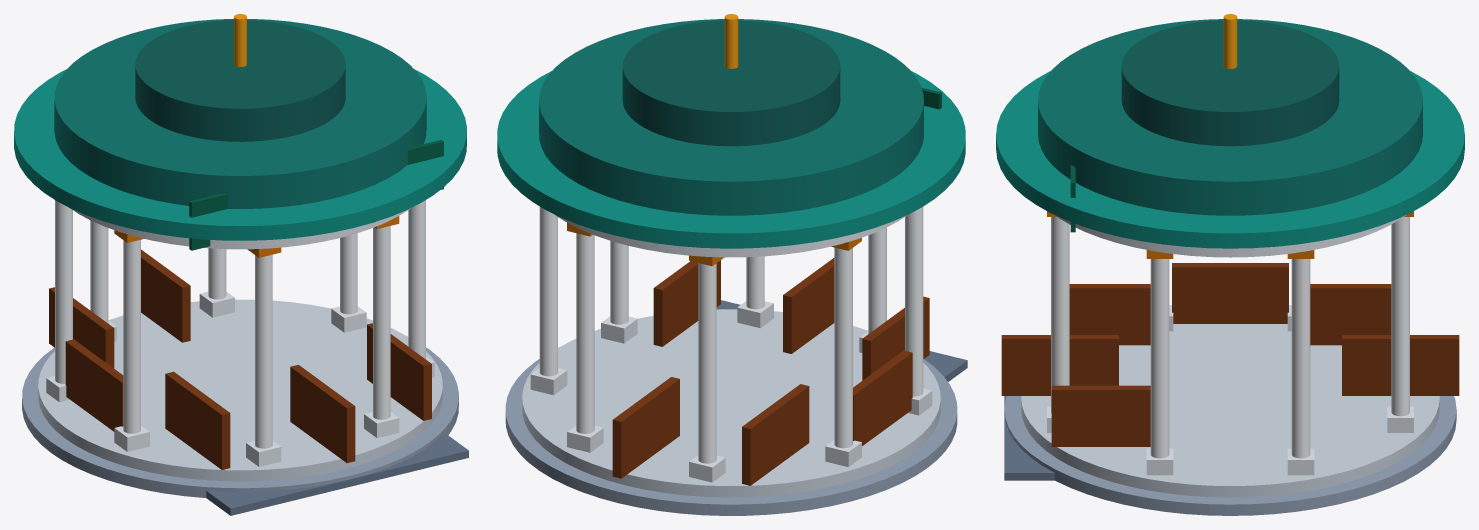
Rendered from booth_06.glb.
The picture shows the model from 3 angles, left to right: view 1: azimuth 30°, elevation 25°; view 2: azimuth 150°, elevation 25°; view 3: azimuth 270°, elevation 25°; orthographic projection. The views are drawn at different scales.
Parts seen in each view (by area): view 1: oct_roof_cone, oct_base_upper, oct_roof_apex, oct_roof_eaves, oct_base_lower, oct_bal_4, oct_bal_5, oct_front_step, oct_bal_3, oct_col_4, oct_col_5, oct_col_6 (+16 smaller); view 2: oct_roof_cone, oct_base_upper, oct_roof_apex, oct_roof_eaves, oct_base_lower, oct_bal_2, oct_bal_1, oct_bal_3, oct_col_2, oct_col_3, oct_col_1, oct_bal_5 (+16 smaller); view 3: oct_roof_cone, oct_base_upper, oct_roof_apex, oct_roof_eaves, oct_base_lower, oct_bal_3, oct_bal_6, oct_bal_1, oct_bal_5, oct_bal_2, oct_bal_4, oct_col_0 (+9 smaller).
Boxes of the visible parts, x1,y1,x2,y2 form: oct_roof_cone: (54,18,426,208); oct_base_upper: (38,299,442,481); oct_roof_apex: (135,20,345,141); oct_roof_eaves: (14,69,466,240); oct_base_lower: (22,336,458,497); oct_bal_4: (165,371,230,469); oct_bal_5: (290,365,355,462); oct_front_step: (206,433,468,515); oct_bal_3: (65,339,123,431); oct_col_4: (123,240,140,433); oct_col_5: (255,254,272,448); oct_col_6: (373,226,390,419); oct_roof_cone: (539,19,923,215); oct_base_upper: (522,309,940,497); oct_roof_apex: (622,20,840,146); oct_roof_eaves: (497,71,965,248); oct_base_lower: (505,347,957,515); oct_bal_2: (742,384,809,485); oct_bal_1: (612,377,679,478); oct_bal_3: (853,350,912,445); oct_col_2: (698,263,716,463); oct_col_3: (834,247,852,448); oct_col_1: (576,233,594,433); oct_bal_5: (783,258,834,353); oct_roof_cone: (1038,19,1422,215); oct_base_upper: (1021,324,1439,497); oct_roof_apex: (1121,20,1339,146); oct_roof_eaves: (996,71,1464,248); oct_base_lower: (1004,396,1456,515); oct_bal_3: (1172,263,1288,323); oct_bal_6: (1051,385,1150,446); oct_bal_1: (1342,335,1459,395); oct_bal_5: (1001,335,1118,395); oct_bal_2: (1310,284,1391,345); oct_bal_4: (1069,284,1150,345); oct_col_0: (1291,259,1310,458).
Bounding box in the file's own units: 5.6 × 5.32 × 5.6.
